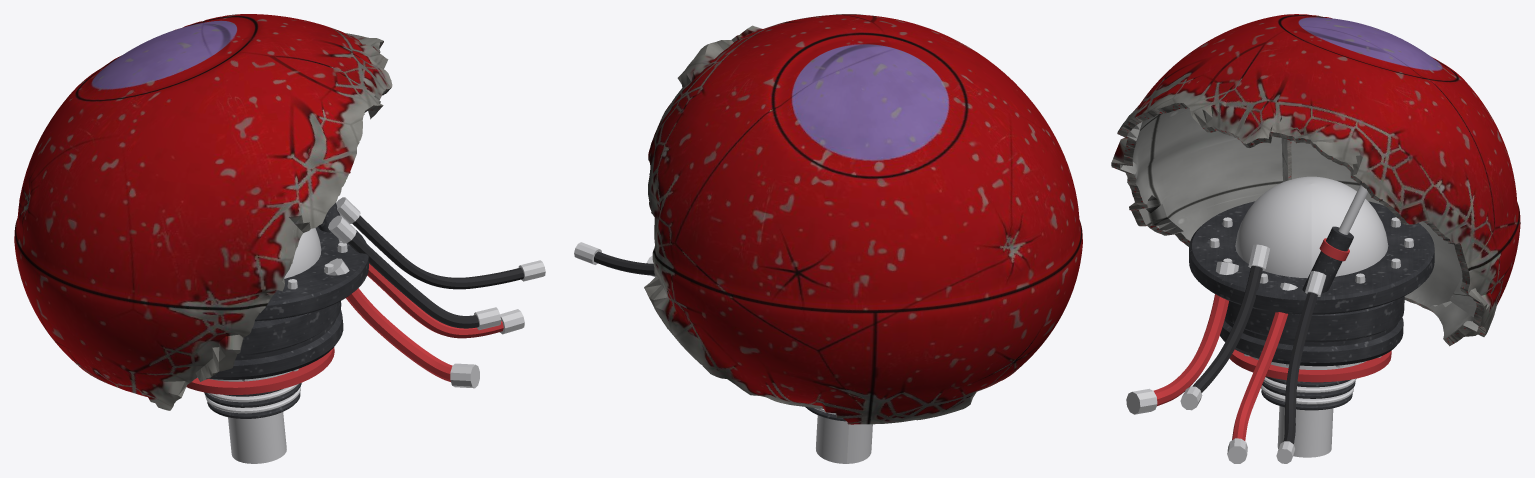
The model's file is baymax_shoulder_shell.glb.
The picture shows the model from 3 angles, left to right: view 1: azimuth 30°, elevation 25°; view 2: azimuth 150°, elevation 25°; view 3: azimuth 270°, elevation 25°; orthographic projection. The views are drawn at different scales.
Parts seen in each view (by area): view 1: baymax_shoulder_shell; view 2: baymax_shoulder_shell; view 3: baymax_shoulder_shell.
Part boxes in pixels (left/top/right/bottom): baymax_shoulder_shell: left=14, top=14, right=545, bottom=463; baymax_shoulder_shell: left=574, top=14, right=1082, bottom=463; baymax_shoulder_shell: left=1111, top=14, right=1520, bottom=463.
Size of the model in its own units: 0.9674 by 0.7869 by 0.7159.
Materials: 7 (4 with a texture image).
